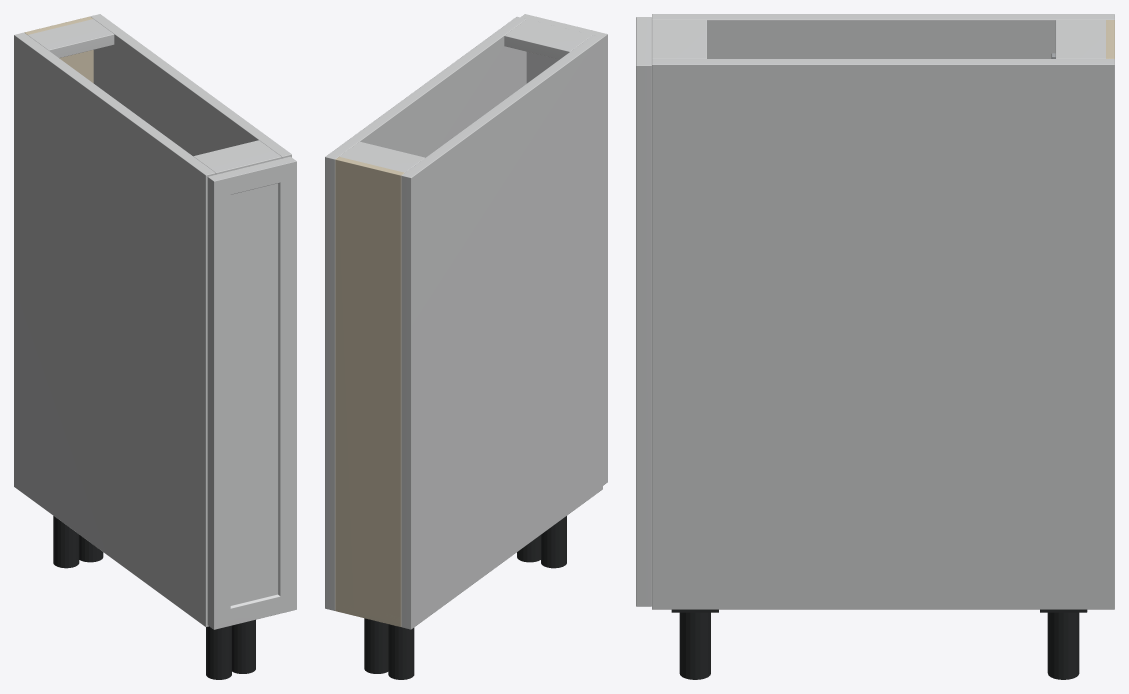
The model's file is PLY-WSS-B06FH.glb.
3 renders of one model, left to right at view 1: azimuth 30°, elevation 25°; view 2: azimuth 150°, elevation 25°; view 3: azimuth 270°, elevation 25°, orthographic. The views are drawn at different scales.
Parts seen in each view (by area): view 1: Carcass left, Shaker door, Carcass right, Top support rail, Top support rail.001, Adjustable foot.001, Adjustable foot.003, Adjustable foot, Carcass back, Adjustable foot.002; view 2: Carcass left, Carcass back, Carcass right, Shaker door, Top support rail.001, Adjustable foot, Top support rail, Adjustable foot.002, Adjustable foot.001, Adjustable foot.003; view 3: Carcass right, Carcass left, Shaker door, Adjustable foot.002, Top support rail.001, Adjustable foot.003, Top support rail.
Boxes of the visible parts, x1,y1,x2,y2 form: Carcass left: (14, 32, 215, 626); Shaker door: (207, 156, 296, 629); Carcass right: (90, 14, 291, 158); Top support rail: (28, 19, 114, 57); Top support rail.001: (193, 140, 281, 174); Adjustable foot.001: (206, 625, 231, 679); Adjustable foot.003: (232, 619, 255, 673); Adjustable foot: (53, 516, 79, 568); Carcass back: (24, 16, 93, 82); Adjustable foot.002: (79, 535, 103, 562); Carcass left: (401, 35, 602, 629); Carcass back: (335, 156, 404, 626); Carcass right: (325, 16, 526, 610); Shaker door: (520, 14, 607, 485); Top support rail.001: (504, 19, 592, 59); Adjustable foot: (388, 624, 414, 679); Top support rail: (339, 141, 424, 172); Adjustable foot.002: (364, 618, 388, 673); Adjustable foot.001: (541, 516, 566, 568); Adjustable foot.003: (517, 535, 540, 562); Carcass right: (652, 59, 1114, 609); Carcass left: (652, 14, 1114, 58); Shaker door: (636, 17, 651, 606); Adjustable foot.002: (1047, 612, 1079, 679); Top support rail.001: (652, 20, 706, 58); Adjustable foot.003: (679, 612, 710, 679); Top support rail: (1055, 20, 1105, 58).
Size of the model in its own units: 0.1524 by 0.8763 by 0.6064.
